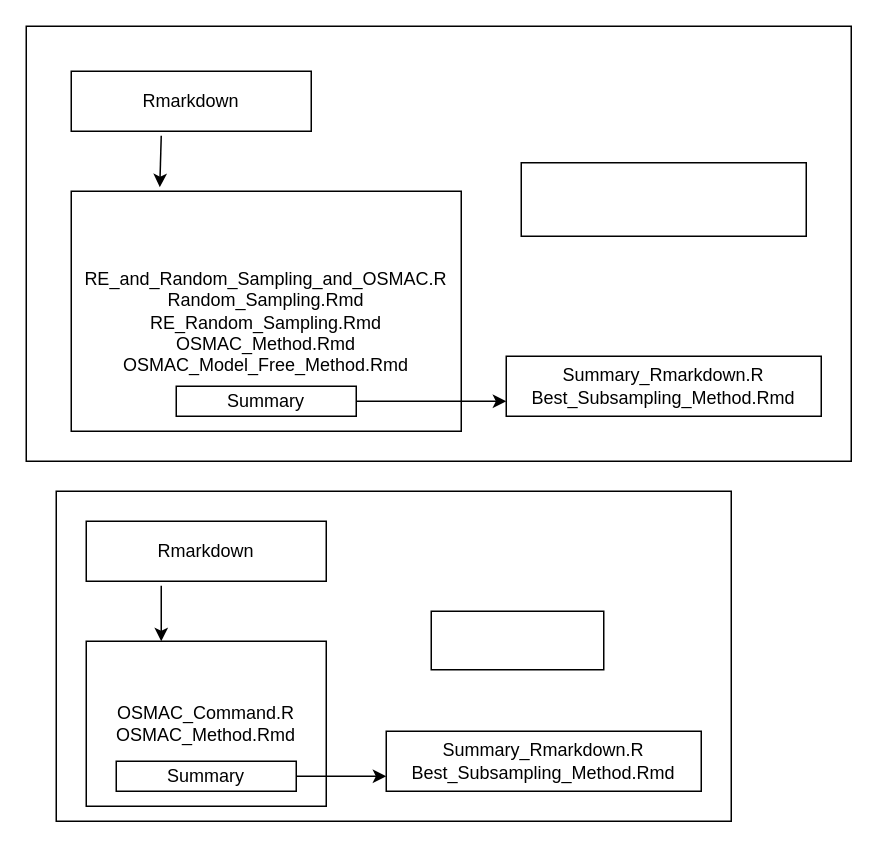
This 878x848 diagram has some shape labels left out. Each missing label, with the centre of its shape:
"Identical_r0" goes at (x=517, y=640).
"Non_Identical_r0" goes at (x=663, y=198).
